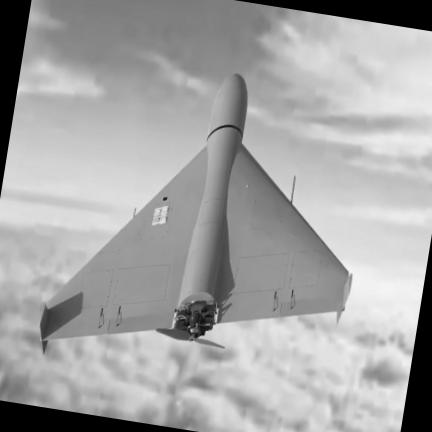Shahed: (39, 74, 352, 350)
